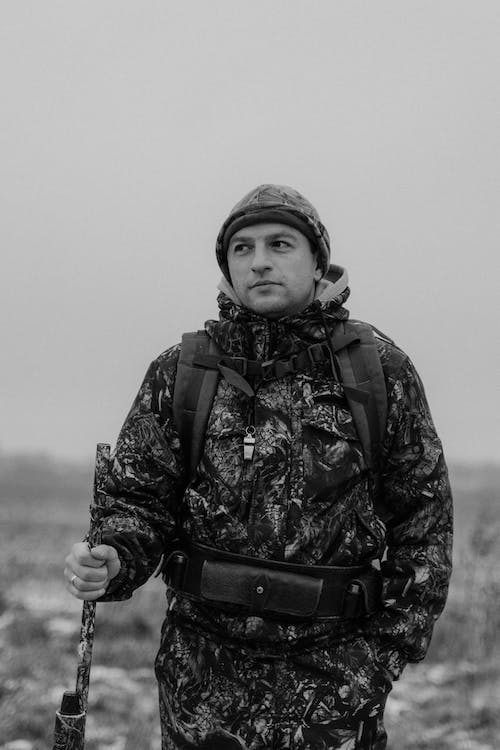gun: (46, 438, 114, 750)
